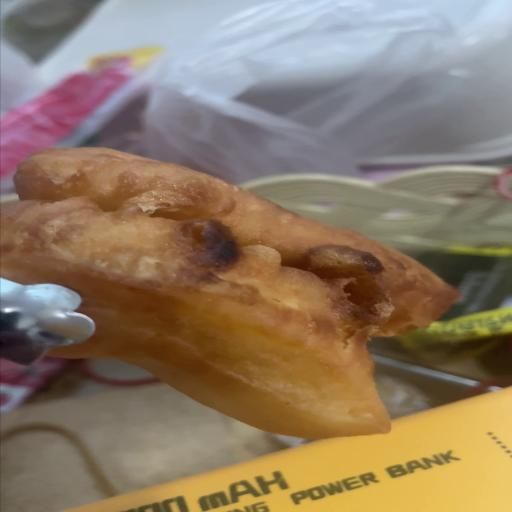street_burnt_defect: (0, 148, 457, 439)
